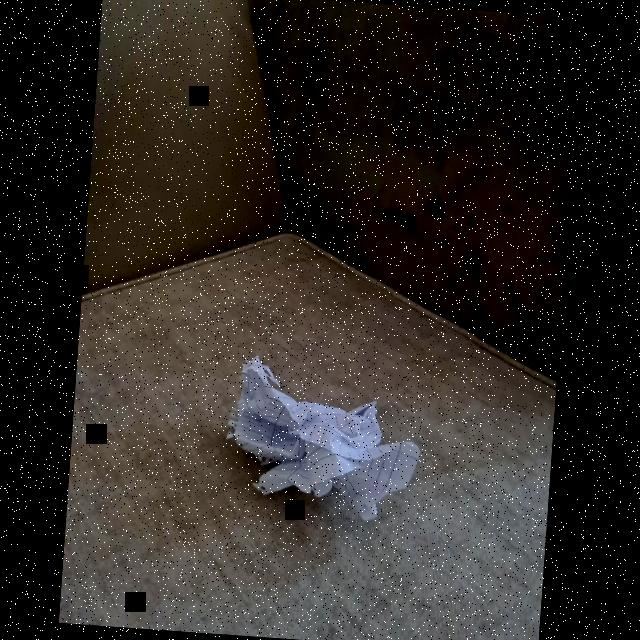scrap_paper: (217, 352, 428, 532)
